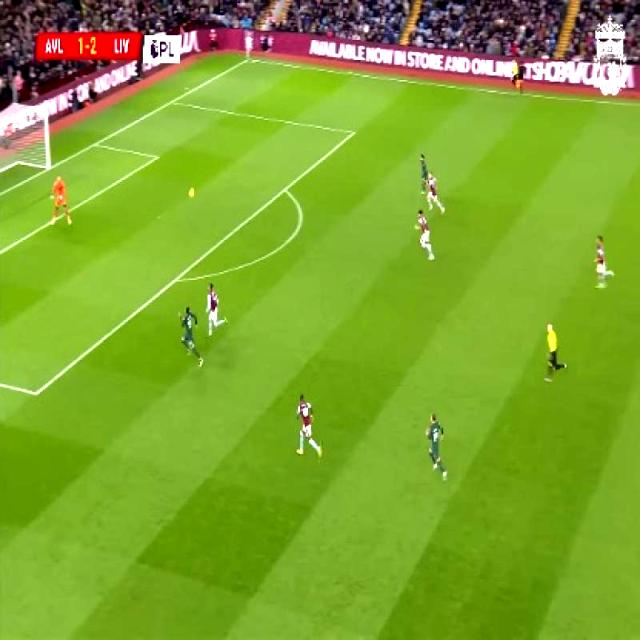bigarea_bottom_inner: (26, 379, 44, 404)
bigarea_top_inner: (346, 122, 360, 142)
bigarea_top_outter: (164, 92, 179, 108)
bottom_arc_area_intersection: (168, 268, 182, 289)
corner: (240, 52, 257, 65)
smallarea_top_inner: (149, 148, 163, 164)
smallarea_top_outter: (86, 134, 102, 152)
top_arc_area_intersection: (277, 180, 291, 197)
